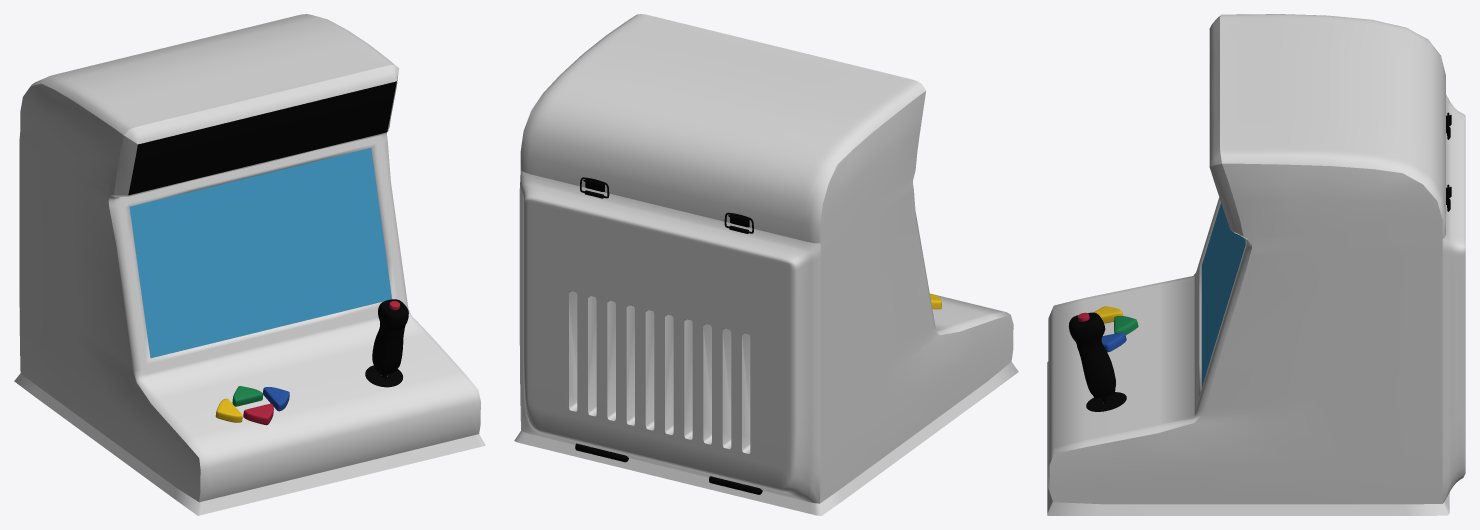
File: booth-flat.glb
3 renders of one model, left to right at view 1: azimuth 30°, elevation 25°; view 2: azimuth 150°, elevation 25°; view 3: azimuth 270°, elevation 25°, orthographic. The views are drawn at different scales.
Visible parts, largest first — view 1: Cube, screen_glass, Cube.009; view 2: Cube; view 3: Cube, screen_glass, Cube.009, joystick_dust_washer.
Boxes of the visible parts, <box> form: Cube: <box>14,14,485,515</box>; screen_glass: <box>129,148,391,358</box>; Cube.009: <box>372,299,408,374</box>; Cube: <box>514,14,1018,515</box>; Cube: <box>1047,14,1465,515</box>; screen_glass: <box>1201,203,1245,387</box>; Cube.009: <box>1068,312,1115,398</box>; joystick_dust_washer: <box>1086,392,1126,411</box>.
Size of the model in its own units: 0.6167 by 0.6683 by 0.7117.
